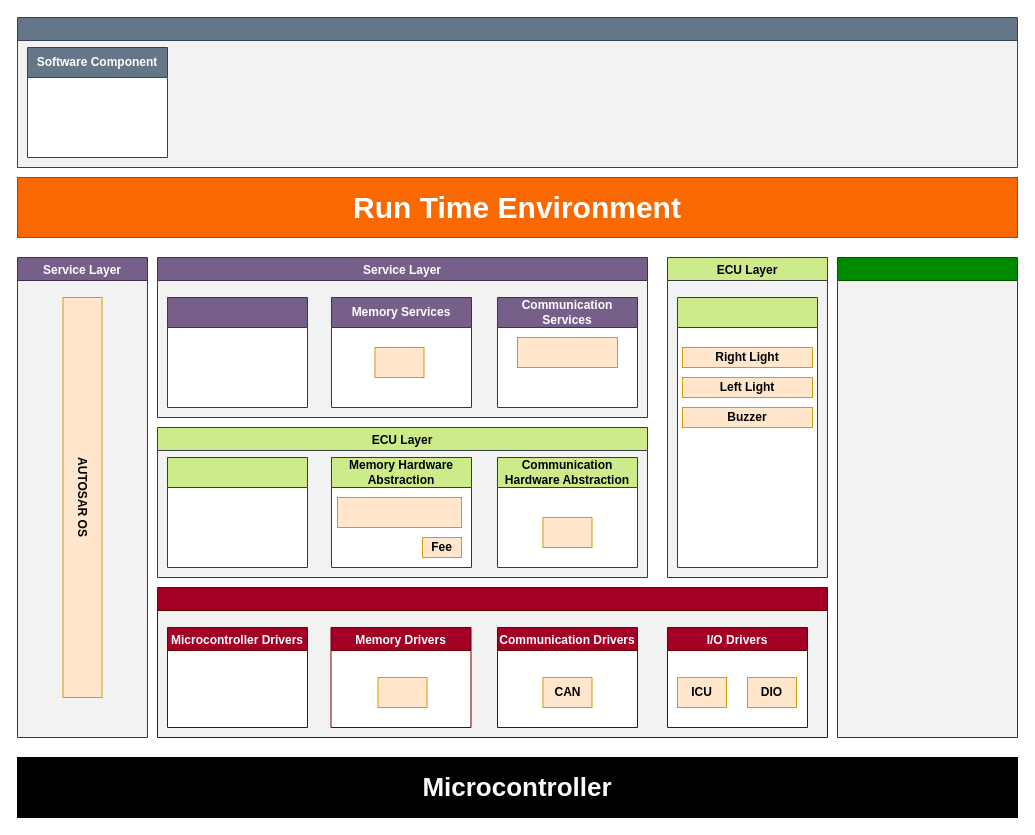
The diagram is 1035 pixels wide and 835 high, and some of its shapes have lost their labels. Each missing label, with the box of its shape:
Application Layer: (16, 16, 1018, 168)
CANIF: (542, 516, 592, 548)
COM: (516, 336, 618, 368)
Complex Drivers: (836, 256, 1018, 738)
Fls: (377, 676, 427, 708)
I/O Hardware Abstraction: (676, 296, 818, 568)
MCAL Layer: (156, 586, 828, 738)
memif: (336, 496, 462, 528)
NVM: (374, 346, 424, 378)
Onboard Device Abstraction: (166, 456, 308, 568)
System Services: (166, 296, 308, 408)
